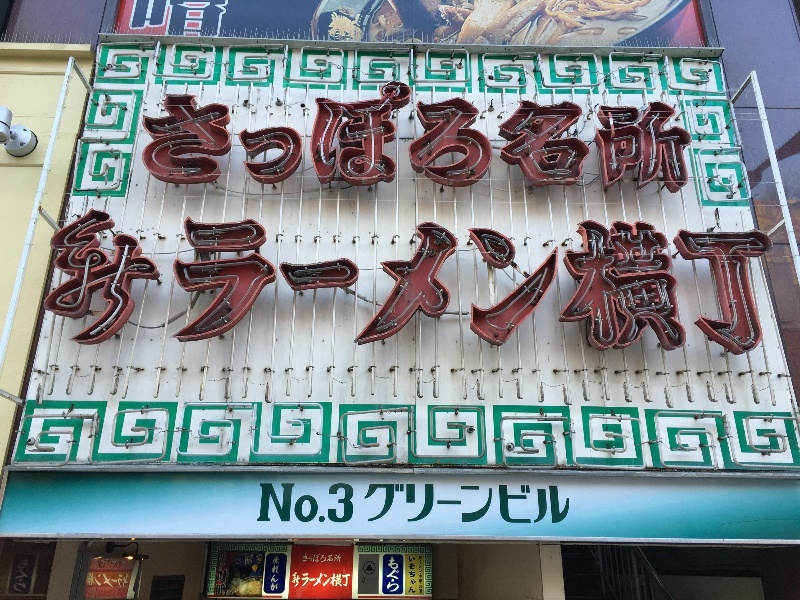text: (65, 210, 80, 356), (81, 210, 96, 356), (97, 210, 112, 356), (113, 210, 128, 356), (129, 210, 144, 356), (145, 210, 160, 356), (161, 210, 176, 356), (177, 210, 192, 356), (193, 210, 208, 356), (209, 210, 224, 356), (225, 210, 240, 356), (241, 210, 256, 356), (257, 210, 272, 356), (273, 210, 288, 356), (289, 210, 304, 356), (305, 210, 320, 356), (321, 210, 336, 356), (337, 210, 352, 356), (353, 210, 368, 356), (369, 210, 384, 356), (385, 210, 400, 356), (401, 210, 416, 356), (417, 210, 432, 356), (433, 210, 448, 356), (449, 210, 464, 356), (465, 210, 480, 356), (481, 210, 496, 356), (497, 210, 512, 356), (513, 210, 528, 356), (529, 210, 544, 356), (545, 210, 560, 356), (561, 210, 576, 356), (577, 210, 592, 356), (593, 210, 608, 356), (609, 210, 624, 356), (625, 210, 640, 356), (641, 210, 656, 356), (657, 210, 672, 356), (673, 210, 688, 356), (689, 210, 704, 356), (705, 210, 720, 356), (721, 210, 736, 356), (737, 210, 752, 356), (753, 210, 768, 356), (51, 210, 64, 356), (145, 94, 160, 190), (161, 94, 176, 190), (177, 94, 192, 190), (193, 94, 208, 190), (209, 94, 224, 190), (225, 94, 240, 190), (241, 94, 256, 190), (257, 94, 272, 190), (273, 94, 288, 190), (289, 94, 304, 190), (305, 94, 320, 190), (321, 94, 336, 190), (337, 94, 352, 190), (353, 94, 368, 190), (369, 94, 384, 190), (385, 94, 400, 190), (401, 94, 416, 190), (417, 94, 432, 190), (433, 94, 448, 190), (449, 94, 464, 190), (465, 94, 480, 190), (481, 94, 496, 190), (497, 94, 512, 190), (513, 94, 528, 190), (529, 94, 544, 190), (545, 94, 560, 190), (561, 94, 576, 190), (577, 94, 592, 190), (593, 94, 608, 190), (609, 94, 624, 190), (625, 94, 640, 190), (641, 94, 656, 190), (657, 94, 672, 190), (673, 94, 688, 190), (689, 94, 699, 190), (769, 210, 774, 356), (273, 483, 288, 525), (289, 483, 304, 525), (305, 483, 320, 525), (321, 483, 336, 525), (337, 483, 352, 525), (145, 1, 160, 42), (161, 1, 176, 42), (177, 1, 192, 42), (193, 1, 208, 42), (209, 1, 224, 42), (369, 484, 384, 524), (385, 484, 400, 524), (401, 484, 416, 524), (417, 484, 432, 524), (433, 484, 448, 524), (449, 484, 464, 524), (465, 484, 480, 524), (481, 484, 496, 524), (497, 484, 512, 524), (513, 484, 528, 524), (529, 484, 544, 524), (545, 484, 560, 524), (274, 556, 288, 592), (419, 557, 432, 594), (387, 557, 400, 593), (261, 483, 272, 525), (133, 1, 144, 42), (561, 484, 570, 524), (408, 556, 416, 593), (305, 572, 320, 588), (321, 572, 336, 588), (337, 572, 351, 588), (113, 574, 129, 588), (97, 574, 112, 588), (225, 1, 230, 42), (142, 94, 144, 190), (293, 572, 304, 588), (241, 555, 256, 566), (218, 570, 224, 597), (225, 570, 231, 597), (305, 554, 320, 563), (321, 554, 336, 563), (365, 484, 368, 524), (99, 560, 112, 568), (89, 574, 96, 588), (99, 590, 112, 597), (353, 483, 355, 525), (369, 575, 378, 584), (118, 589, 128, 597), (86, 591, 96, 599), (233, 555, 240, 566), (113, 560, 122, 568), (361, 575, 368, 584), (257, 555, 262, 566), (221, 552, 224, 570), (337, 554, 343, 563), (107, 560, 112, 568), (225, 552, 227, 570), (241, 553, 249, 557), (251, 552, 256, 555), (303, 554, 304, 563), (238, 553, 240, 557), (257, 552, 259, 555)
